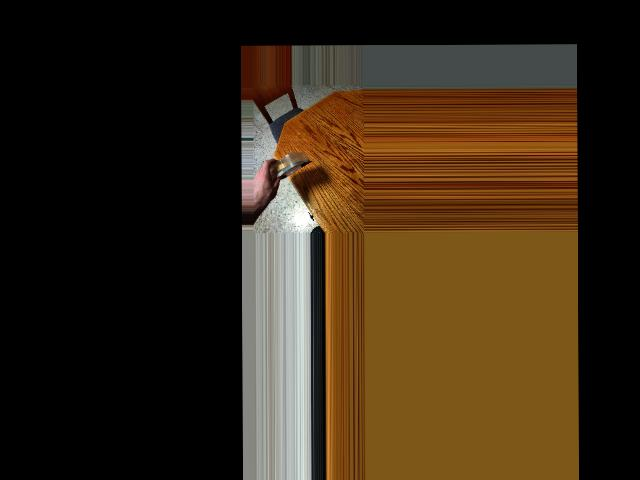cheese: (267, 151, 310, 179)
